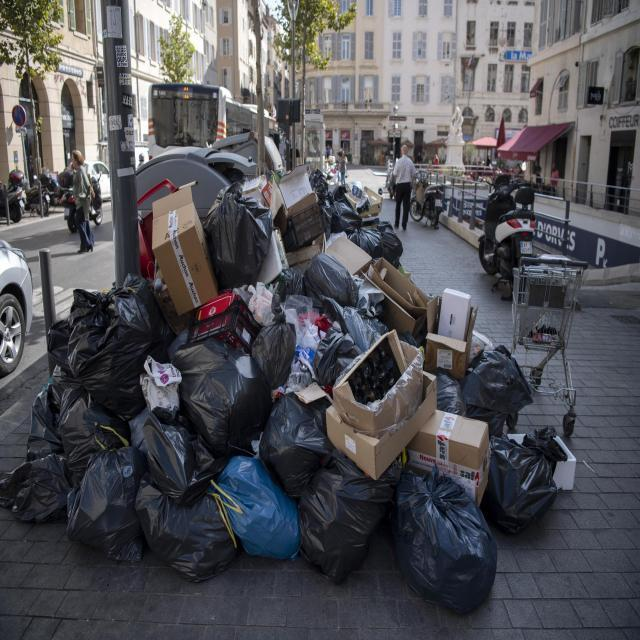garbage: (0, 278, 531, 625), (208, 161, 405, 280), (488, 410, 580, 541), (132, 166, 208, 282)
